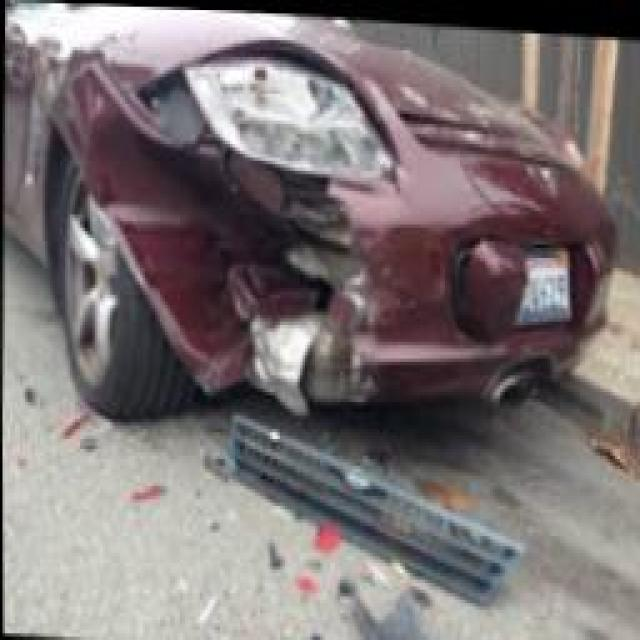Bumper: (125, 161, 391, 412)
